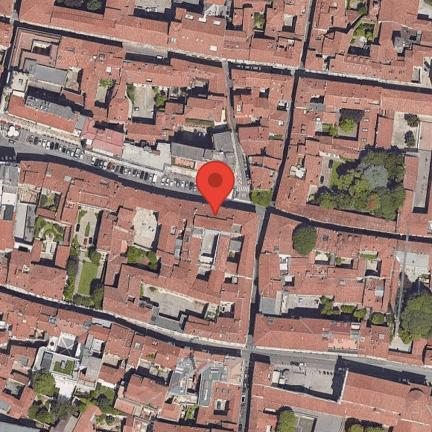area_open: (70, 234, 105, 307), (285, 363, 338, 399)
built: (1, 30, 234, 179), (3, 162, 261, 278), (278, 78, 431, 214), (0, 4, 306, 66), (2, 293, 129, 429), (100, 255, 251, 345), (253, 364, 430, 432), (112, 338, 244, 429), (287, 231, 426, 315), (306, 6, 432, 87), (316, 158, 430, 236), (126, 61, 230, 143), (256, 321, 429, 367), (234, 73, 290, 188), (4, 241, 65, 299), (263, 214, 291, 317), (57, 406, 100, 430), (2, 25, 16, 72)
vegetation_high: (318, 147, 404, 216), (318, 289, 430, 334), (30, 375, 110, 421), (297, 225, 316, 254), (348, 417, 381, 428), (282, 411, 297, 426)
